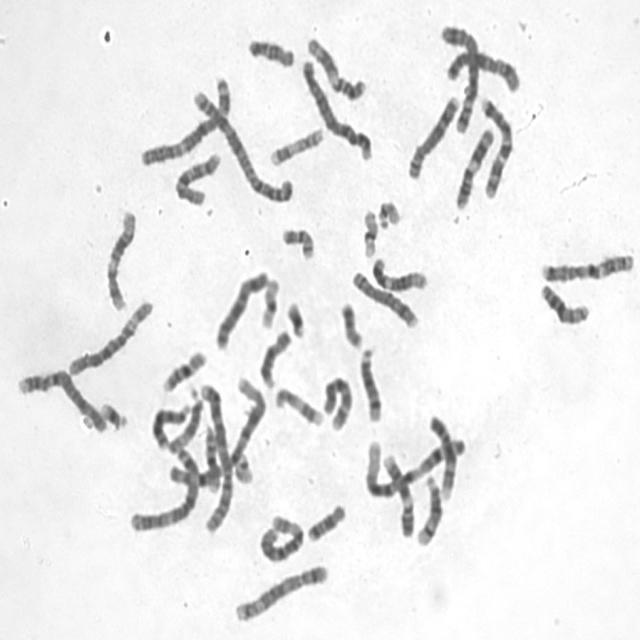A1: (162, 372, 269, 492), (358, 431, 467, 501)
A2: (187, 83, 296, 205), (196, 378, 236, 535)
A3: (137, 70, 233, 168), (124, 439, 202, 533)
B4: (298, 52, 375, 164), (12, 362, 110, 434)
B5: (230, 558, 330, 624), (436, 17, 482, 136)
C10: (170, 146, 223, 208), (318, 370, 354, 433)
C11: (302, 30, 368, 103), (451, 122, 497, 212)
C12: (100, 203, 138, 313), (368, 252, 430, 294)
C6: (63, 292, 156, 378), (255, 508, 306, 564)
C7: (476, 92, 516, 200), (536, 246, 636, 284)
C8: (403, 89, 462, 181), (347, 265, 420, 330)
C9: (379, 448, 416, 539), (423, 407, 458, 501)
D13: (535, 277, 592, 327), (147, 396, 192, 452)
D14: (412, 470, 444, 548), (354, 341, 384, 424)
D15: (163, 385, 205, 454), (255, 324, 293, 390)
E16: (158, 344, 208, 394), (199, 417, 222, 494)
E17: (265, 121, 326, 168), (271, 380, 326, 430)
E18: (303, 497, 348, 544), (243, 31, 297, 70)
F19: (256, 272, 282, 331), (358, 202, 380, 260)
F20: (277, 222, 317, 262), (336, 296, 364, 350)
G21: (96, 396, 130, 431), (282, 296, 308, 340)
G22: (374, 195, 403, 231), (229, 446, 255, 486)
X: (210, 264, 270, 353), (439, 43, 522, 95)
